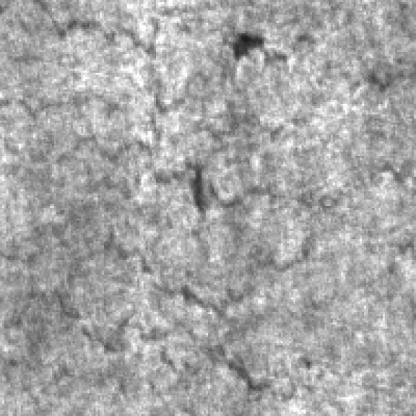crazing: (141, 25, 296, 403), (0, 13, 354, 170), (46, 237, 343, 410)
